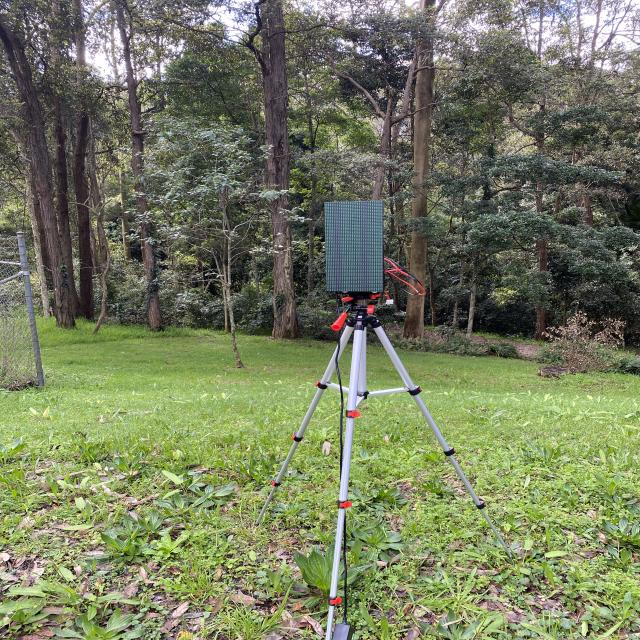matrix: (318, 195, 389, 296)
